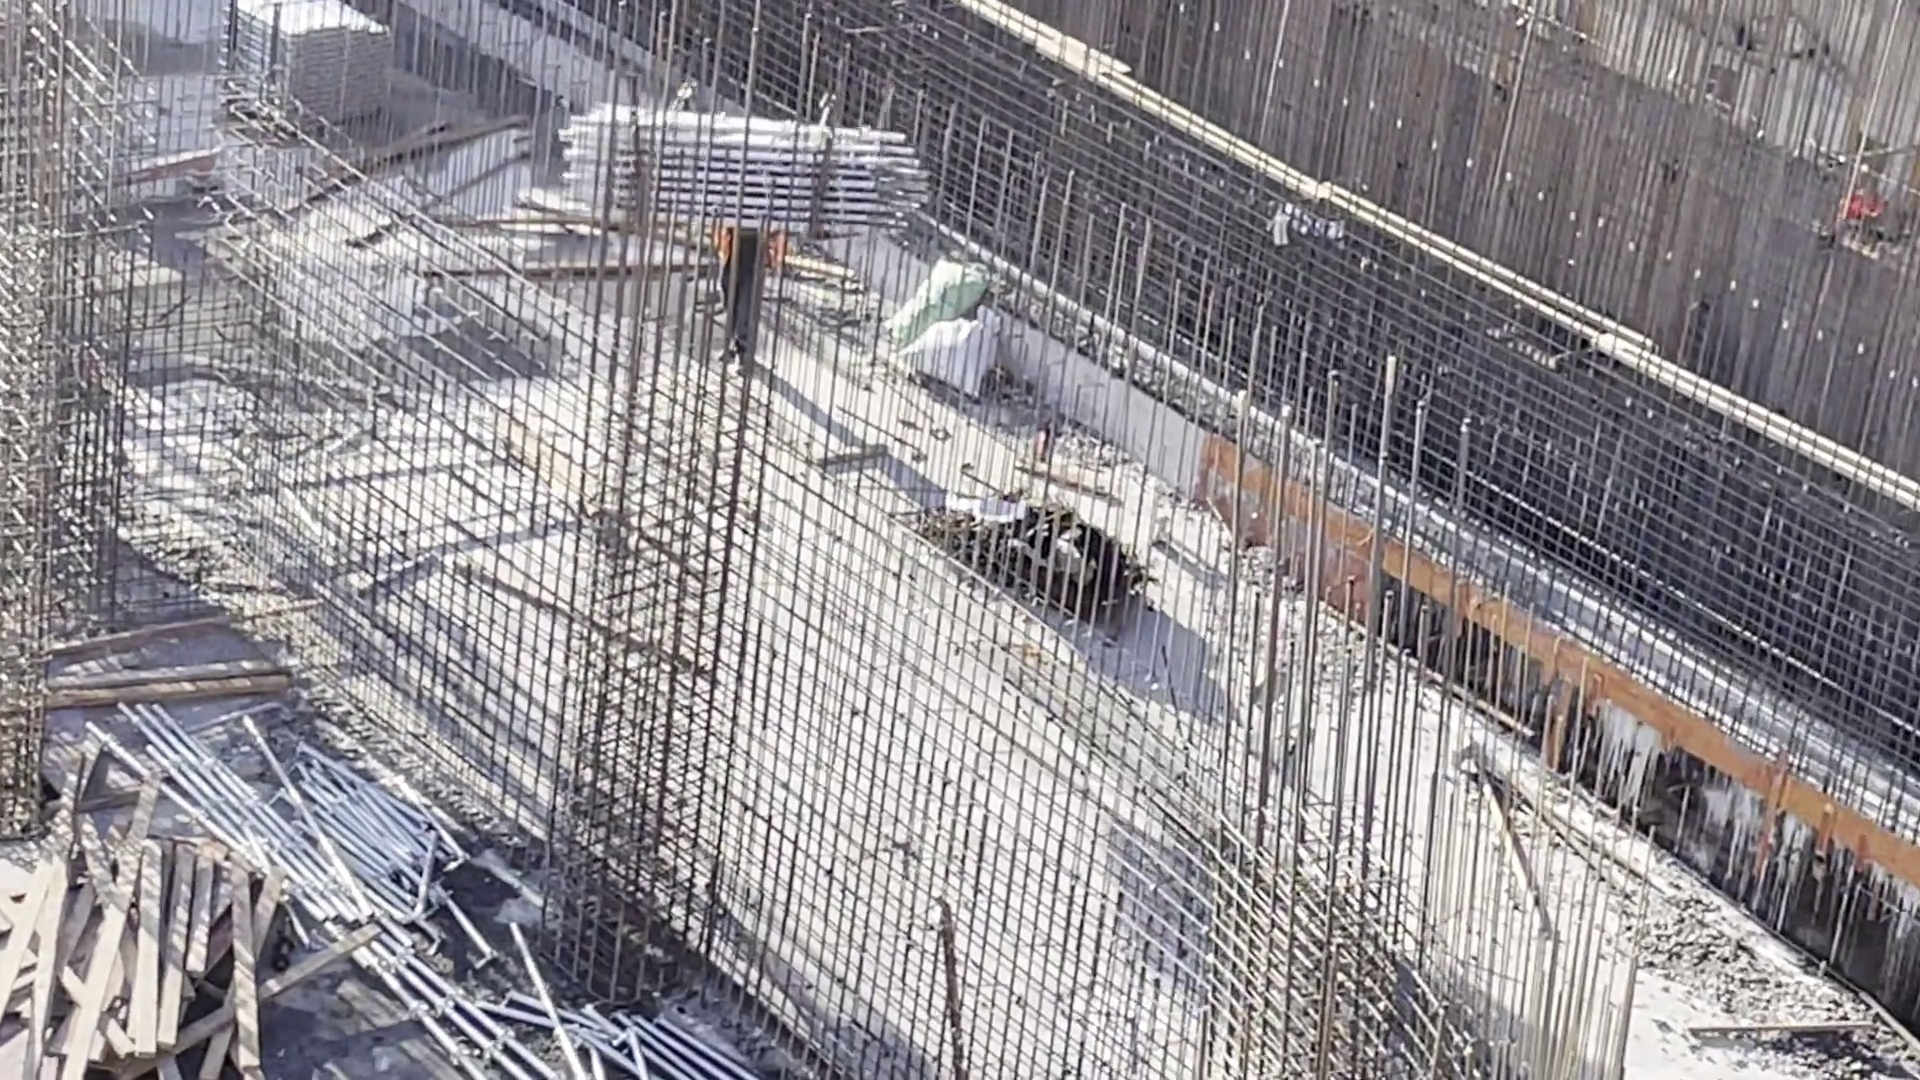person: (710, 200, 785, 368)
scaffold: (526, 131, 935, 230), (229, 746, 468, 899), (206, 1, 351, 155), (577, 1005, 780, 1080)
vest: (719, 217, 784, 294)
wood: (18, 835, 269, 1080)
